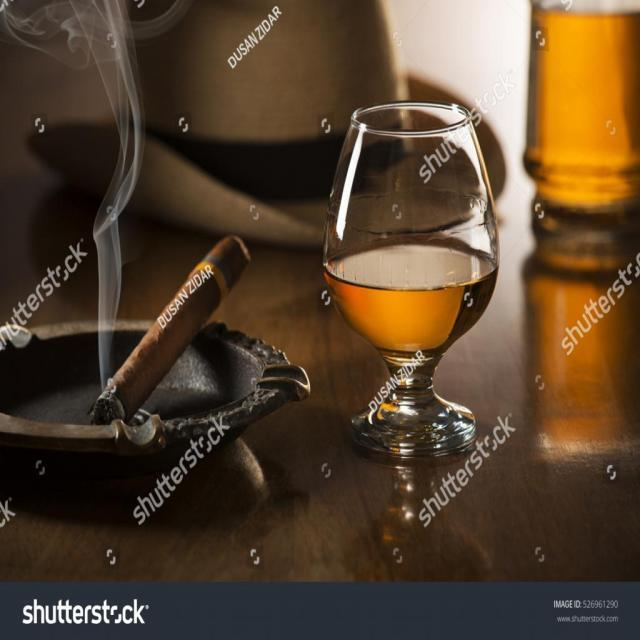smoking: (82, 227, 258, 441)
